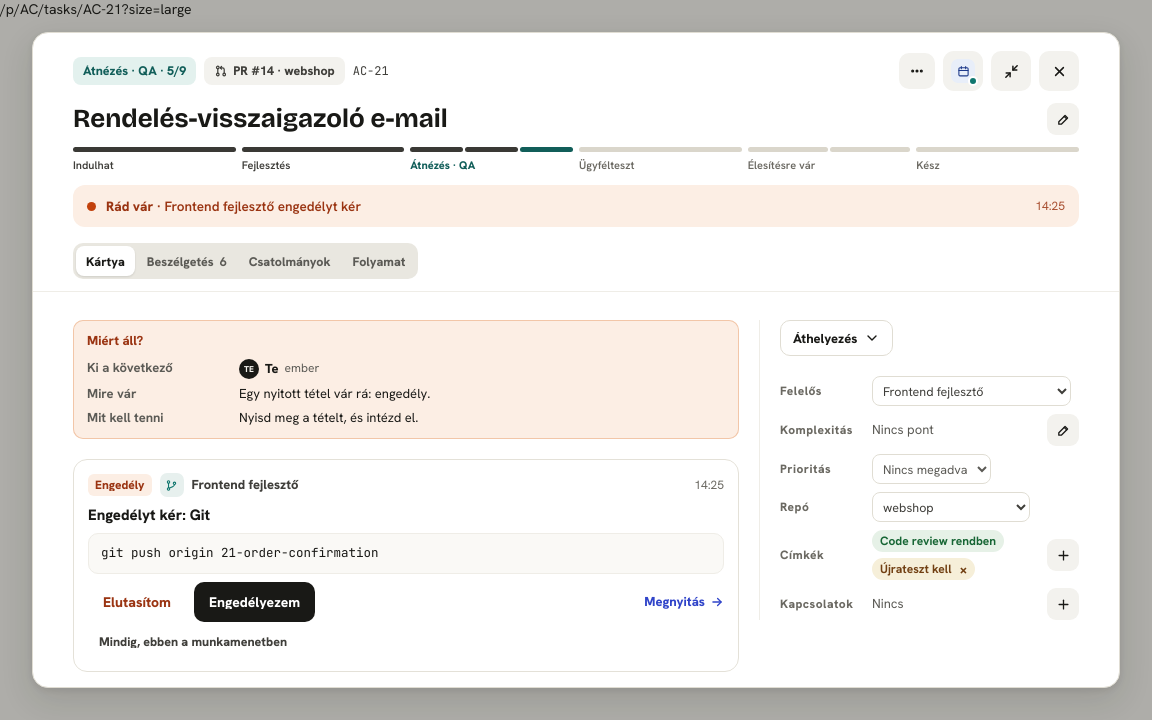
Test: the views of the open card (PM-487) › keeps the size when the view changes
This screenshot has width=1152, height=720.
Click the button "Folyamat".
click(379, 261)  # box [343,246,416,276]
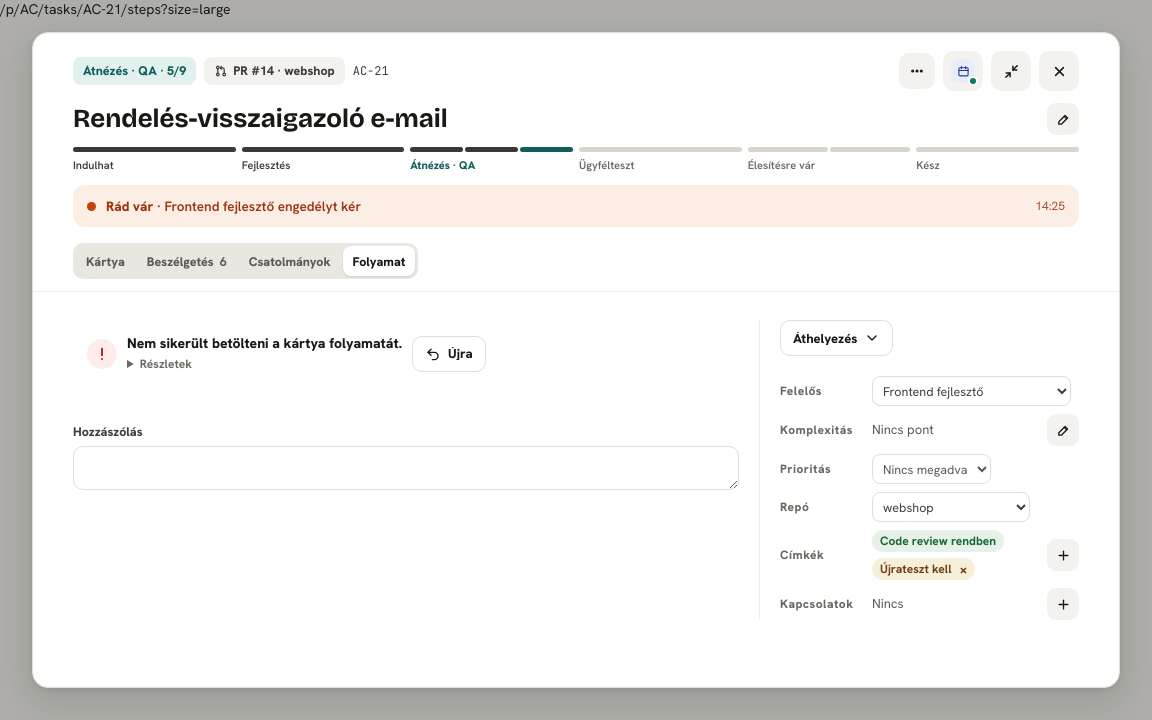
Now the text with test id "where" reads "/p/AC/tasks/AC-21/steps?size=large", box [0,0,231,18]
